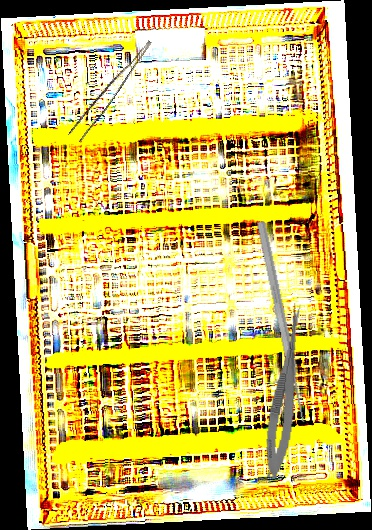Micro Scissor: (260, 301, 308, 480)
Pusher: (254, 220, 310, 425)
Tissue Forceps: (68, 32, 152, 145)
